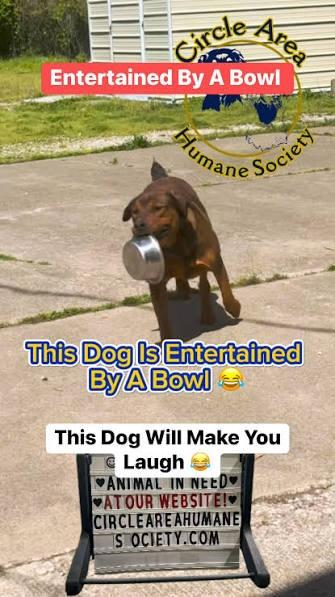adult_dog: (121, 158, 242, 349)
